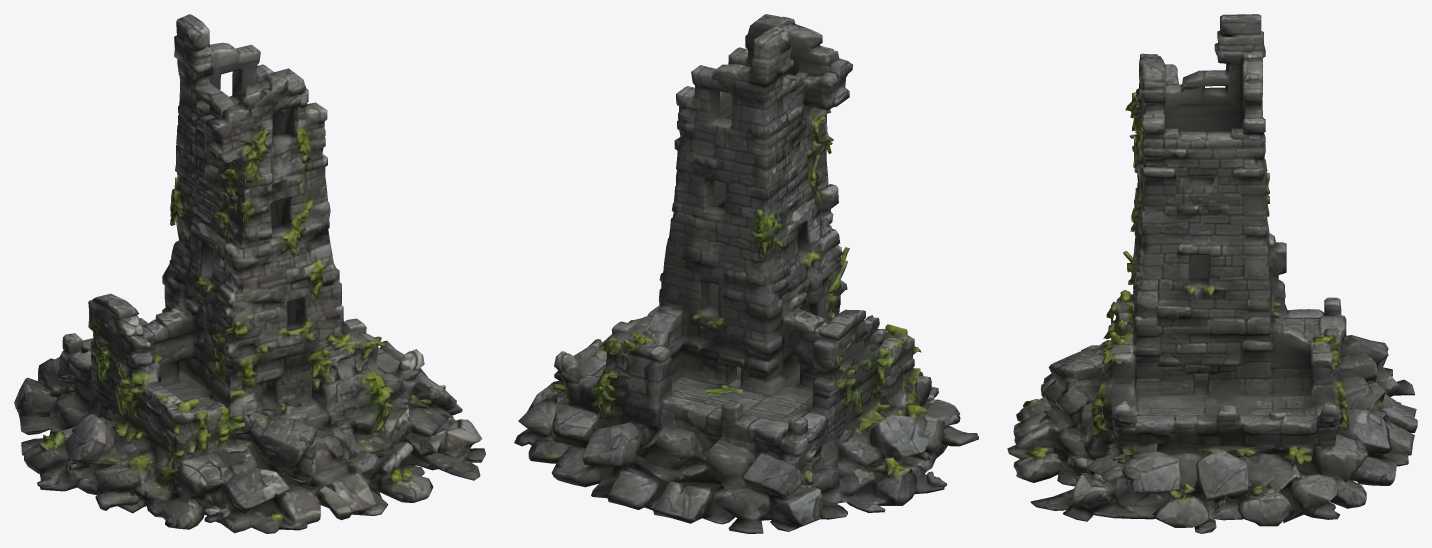
Rendered from ruined-watchtower.glb.
3 views of the same model, side by side, from view 1: azimuth 30°, elevation 25°; view 2: azimuth 150°, elevation 25°; view 3: azimuth 270°, elevation 25° (orthographic). The views are drawn at different scales.
Visible parts, largest first — view 1: tripo_node_0b8885f0-04d6-4c8b-8fa9-25ded559f9c6; view 2: tripo_node_0b8885f0-04d6-4c8b-8fa9-25ded559f9c6; view 3: tripo_node_0b8885f0-04d6-4c8b-8fa9-25ded559f9c6.
Boxes of the visible parts, x1,y1,x2,y2 form: tripo_node_0b8885f0-04d6-4c8b-8fa9-25ded559f9c6: [14, 14, 485, 533]; tripo_node_0b8885f0-04d6-4c8b-8fa9-25ded559f9c6: [514, 14, 978, 533]; tripo_node_0b8885f0-04d6-4c8b-8fa9-25ded559f9c6: [1007, 14, 1417, 533].
Bounding box in the file's own units: 0.9774 × 0.9774 × 0.8933.
Materials: 1 (1 with a texture image).
